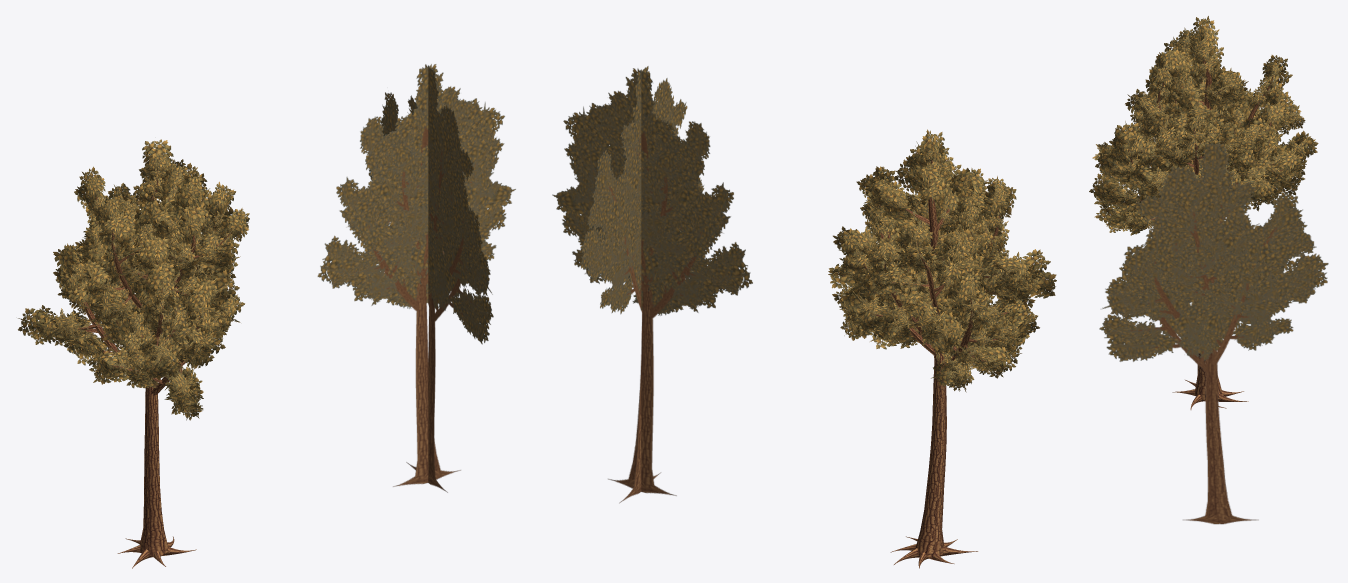
File: tree1.glb
3 renders of one model, left to right at view 1: azimuth 30°, elevation 25°; view 2: azimuth 150°, elevation 25°; view 3: azimuth 270°, elevation 25°, orthographic. The views are drawn at different scales.
Parts seen in each view (by area): view 1: Empty.004, Leaves_LOD0, Branches_LOD0; view 2: Leaves_LOD0, Empty.004, Branches_LOD0; view 3: Empty.004, Leaves_LOD0, Branches_LOD0.
Part boxes in pixels (box(x1,y1,x2,y2)): Empty.004: box(317, 64, 515, 492); Leaves_LOD0: box(18, 139, 249, 420); Branches_LOD0: box(77, 170, 230, 568); Leaves_LOD0: box(828, 129, 1056, 392); Empty.004: box(552, 66, 752, 503); Branches_LOD0: box(858, 160, 1009, 568); Empty.004: box(1099, 143, 1328, 524); Leaves_LOD0: box(1089, 16, 1318, 235); Branches_LOD0: box(1125, 45, 1294, 409).
Bounding box in the file's own units: 42.41 × 35.74 × 20.48.
Materials: 3 (3 with a texture image).
